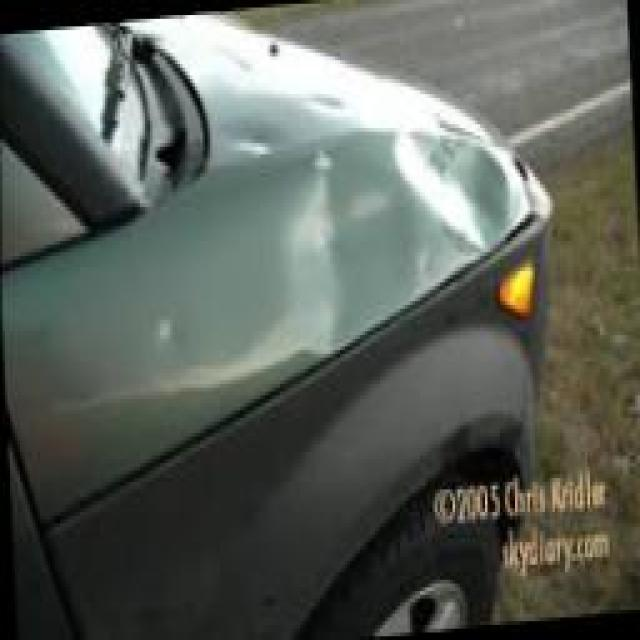Bonnet: (1, 8, 532, 510)
